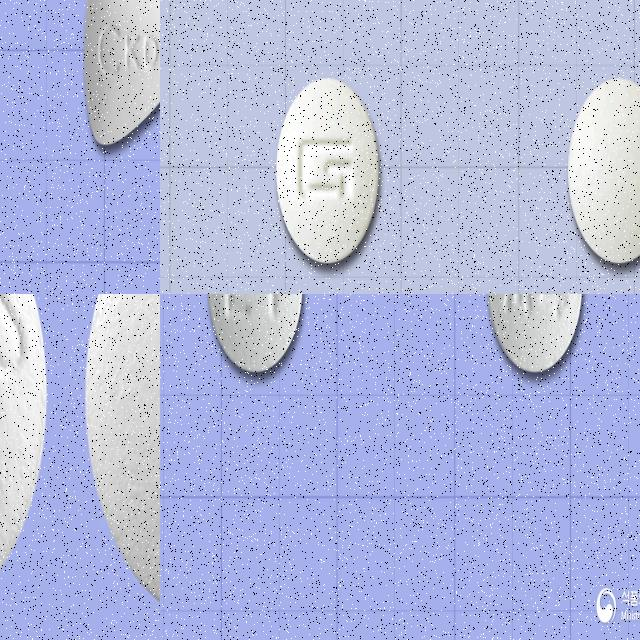Entecabell - 1mg: (82, 0, 160, 146)
Lefexin: (276, 77, 380, 263), (567, 77, 640, 264)
Leprex: (487, 294, 583, 376), (208, 294, 302, 371)
Neobit Tab: (84, 294, 160, 623), (0, 294, 45, 615)
